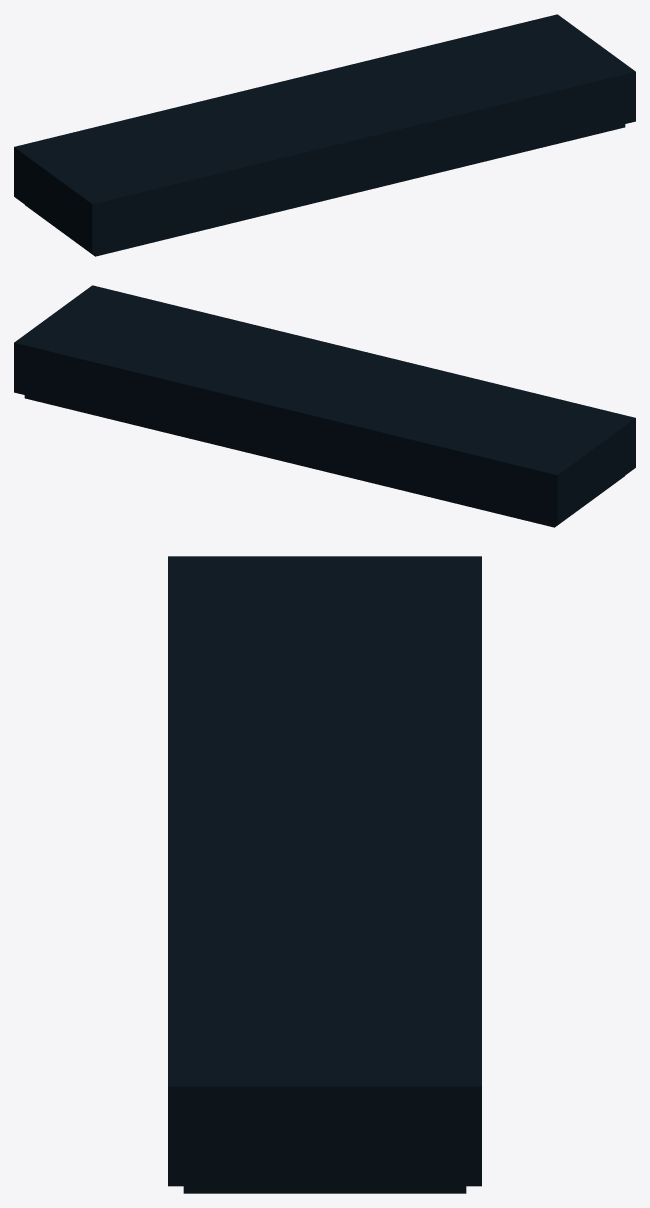
3 renders of one model, top to bottom at view 1: azimuth 30°, elevation 25°; view 2: azimuth 150°, elevation 25°; view 3: azimuth 270°, elevation 25°, orthographic. The views are drawn at different scales.
Parts seen in each view (by area): view 1: mesh_19, box4, box4_1; view 2: mesh_19, box4, box4_1; view 3: mesh_19, box4, box4_1.
Boxes of the visible parts, left/top/right/bottom form: mesh_19: left=14, top=14, right=635, bottom=204; box4: left=14, top=72, right=635, bottom=253; box4_1: left=25, top=124, right=625, bottom=256; mesh_19: left=14, top=285, right=635, bottom=475; box4: left=14, top=343, right=635, bottom=524; box4_1: left=24, top=395, right=624, bottom=527; mesh_19: left=168, top=556, right=481, bottom=1086; box4: left=168, top=1086, right=481, bottom=1186; box4_1: left=183, top=1186, right=466, bottom=1193.
Size of the model in its own units: 80 by 8 by 20.
